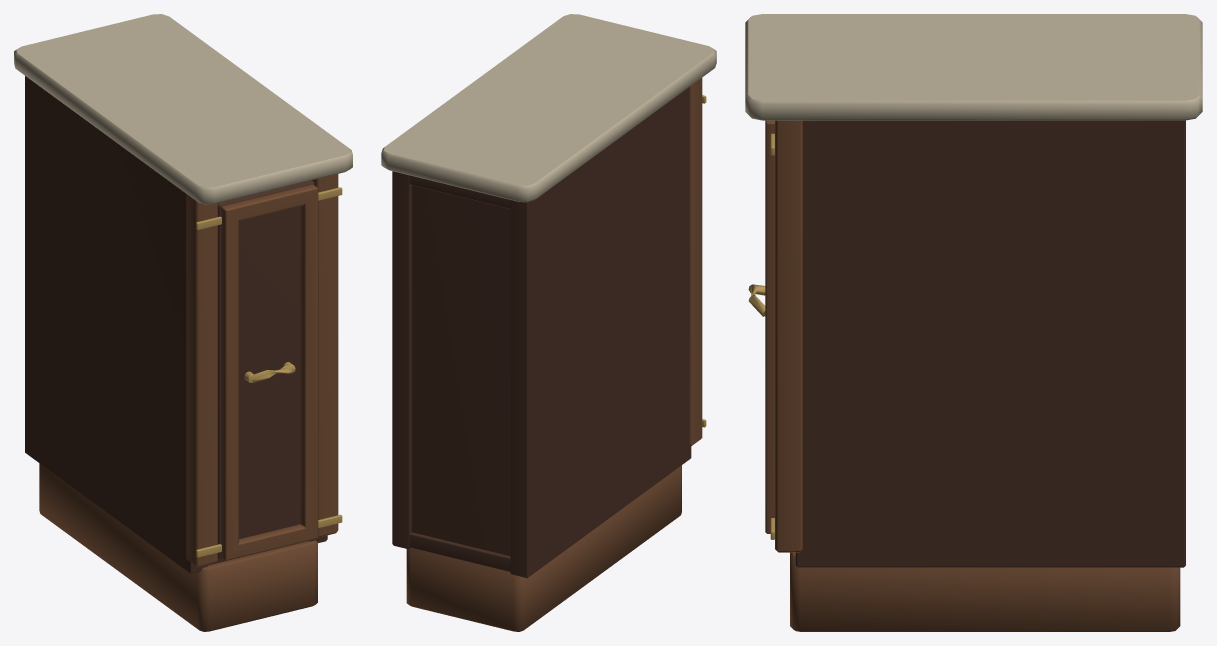
File: rpg-mansion-kitchen-single-door-300-01.glb
The picture shows the model from 3 angles, left to right: view 1: azimuth 30°, elevation 25°; view 2: azimuth 150°, elevation 25°; view 3: azimuth 270°, elevation 25°; orthographic projection. The views are drawn at different scales.
Parts seen in each view (by area): view 1: rpg-mansion-kitchen-single-door-300-01; view 2: rpg-mansion-kitchen-single-door-300-01; view 3: rpg-mansion-kitchen-single-door-300-01.
Boxes of the visible parts, x1,y1,x2,y2 form: rpg-mansion-kitchen-single-door-300-01: [14, 14, 352, 631]; rpg-mansion-kitchen-single-door-300-01: [381, 14, 716, 631]; rpg-mansion-kitchen-single-door-300-01: [745, 14, 1202, 631].
Size of the model in its own units: 0.3 by 0.85 by 0.65.
